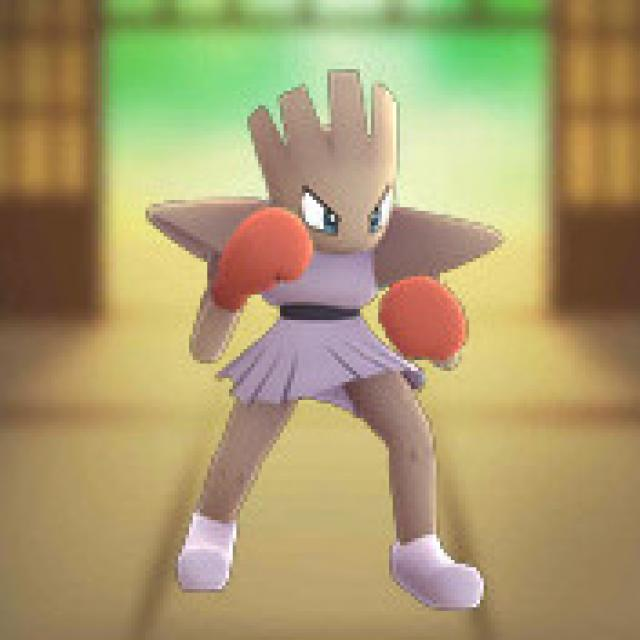Hitmonchan: (177, 74, 466, 606)
